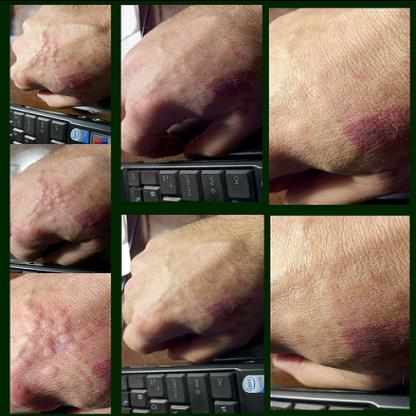Bed Bug: (18, 296, 109, 391), (340, 103, 406, 178), (20, 29, 104, 86), (25, 174, 106, 232), (336, 317, 406, 381), (202, 58, 255, 116), (198, 289, 255, 337)
